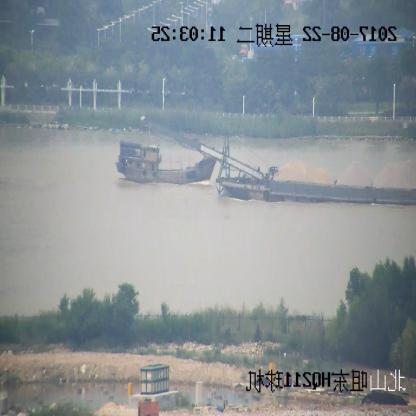Fishing Boat: (116, 140, 216, 185)
